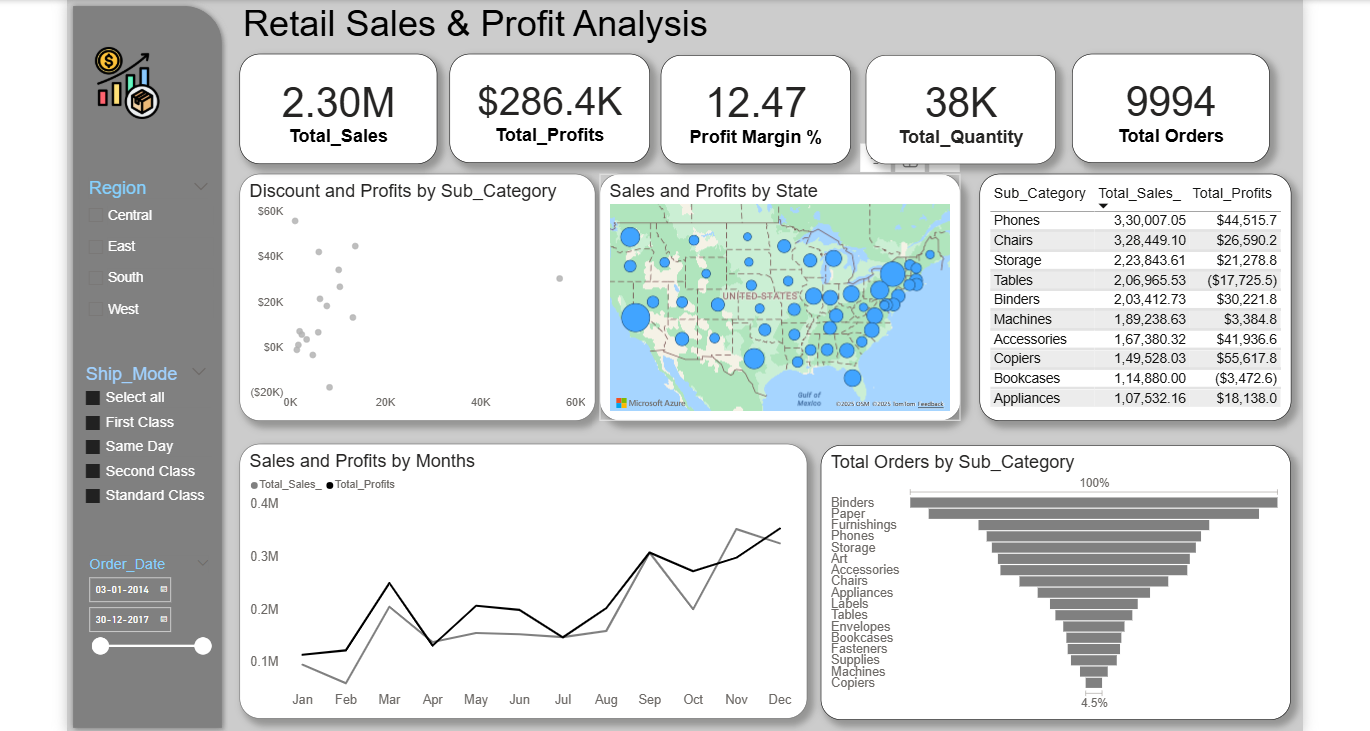

The page's visual inventory and layout, read from the dashboard file:
{"tool":"powerbi","page":{"name":"Page 4","canvas":[1820,1080],"ordinal":0},"visuals":[{"type":"shape","box":[0,0,237,1080.4],"z":0},{"type":"textbox","box":[254,0,762,92],"z":1000},{"type":"scatterChart","title":"Discount and Profits by Sub_Category","fields":{"X":["Sum(retail_sales_and_profit_analysis sales.Discount)"],"Y":["retail_sales_and_profit_analysis sales.Total_Profits"],"Category":["retail_sales_and_profit_analysis sales.Sub_Category"]},"box":[253.8,255.6,524.3,363.9],"z":2000},{"type":"azureMap","title":"Sales and Profits by State","fields":{"Category":["retail_sales_and_profit_analysis sales.State"],"Size":["retail_sales_and_profit_analysis sales.Total_Sales_"]},"box":[783.7,255.6,531.8,363.9],"z":3000},{"type":"tableEx","fields":{"Values":["retail_sales_and_profit_analysis sales.Sub_Category","retail_sales_and_profit_analysis sales.Total_Sales_","retail_sales_and_profit_analysis sales.Total_Profits"]},"box":[1343.5,255.6,459,363.9],"z":4000},{"type":"lineChart","title":"Sales and Profits by Months","fields":{"Y2":["retail_sales_and_profit_analysis sales.Total_Profits"],"Y":["retail_sales_and_profit_analysis sales.Total_Sales_"],"Category":["Jan ,1.Column1"]},"box":[253.8,653.1,835.9,404.9],"z":5000},{"type":"funnel","fields":{"Y":["retail_sales_and_profit_analysis sales.Total Orders"],"Category":["retail_sales_and_profit_analysis sales.Sub_Category"]},"box":[1110.2,654.9,692.3,404.9],"z":6000},{"type":"card","fields":{"Values":["retail_sales_and_profit_analysis sales.Total_Sales_"]},"box":[253.8,78.4,291.1,162.3],"z":7000},{"type":"card","fields":{"Values":["retail_sales_and_profit_analysis sales.Total_Profits"]},"box":[563.5,78.4,294.8,160.5],"z":8000},{"type":"card","fields":{"Values":["retail_sales_and_profit_analysis sales.Profit Margin %"]},"box":[875.1,80.2,279.9,160.5],"z":9000},{"type":"card","fields":{"Values":["retail_sales_and_profit_analysis sales.Total Orders"]},"box":[1479.7,78.4,291.1,160.5],"z":10000},{"type":"card","fields":{"Values":["retail_sales_and_profit_analysis sales.Total_Quantity"]},"box":[1175.5,80.2,279.9,160.5],"z":11000},{"type":"slicer","fields":{"Values":["retail_sales_and_profit_analysis sales.Region"]},"box":[18.4,255.8,202.5,230.1],"z":12000},{"type":"slicer","fields":{"Values":["retail_sales_and_profit_analysis sales.Ship_Mode"]},"box":[14.7,530.1,202.5,233.7],"z":13000},{"type":"slicer","fields":{"Values":["retail_sales_and_profit_analysis sales.Order_Date"]},"box":[20.2,813.5,200.6,165.6],"z":14000},{"type":"image","box":[14.7,62.6,147.2,119.6],"z":15000}]}

Visuals, with their boxes in screenshot pixels (x1, y1, x2, y2):
shape: {"x1": 57, "y1": 0, "x2": 221, "y2": 730}
textbox: {"x1": 233, "y1": 0, "x2": 761, "y2": 53}
"Discount and Profits by Sub_Category" scatterChart: {"x1": 233, "y1": 166, "x2": 596, "y2": 418}
"Sales and Profits by State" azureMap: {"x1": 600, "y1": 166, "x2": 968, "y2": 418}
tableEx - retail_sales_and_profit_analysis sales.Sub_Category x retail_sales_and_profit_analysis sales.Total_Sales_: {"x1": 987, "y1": 166, "x2": 1305, "y2": 418}
"Sales and Profits by Months" lineChart: {"x1": 233, "y1": 441, "x2": 812, "y2": 722}
funnel - retail_sales_and_profit_analysis sales.Total Orders x retail_sales_and_profit_analysis sales.Sub_Category: {"x1": 826, "y1": 443, "x2": 1305, "y2": 723}
card - retail_sales_and_profit_analysis sales.Total_Sales_: {"x1": 233, "y1": 44, "x2": 434, "y2": 156}
card - retail_sales_and_profit_analysis sales.Total_Profits: {"x1": 447, "y1": 44, "x2": 651, "y2": 155}
card - retail_sales_and_profit_analysis sales.Profit Margin %: {"x1": 663, "y1": 45, "x2": 857, "y2": 156}
card - retail_sales_and_profit_analysis sales.Total Orders: {"x1": 1082, "y1": 44, "x2": 1283, "y2": 155}
card - retail_sales_and_profit_analysis sales.Total_Quantity: {"x1": 871, "y1": 45, "x2": 1065, "y2": 156}
slicer - retail_sales_and_profit_analysis sales.Region: {"x1": 70, "y1": 166, "x2": 210, "y2": 326}
slicer - retail_sales_and_profit_analysis sales.Ship_Mode: {"x1": 67, "y1": 356, "x2": 207, "y2": 518}
slicer - retail_sales_and_profit_analysis sales.Order_Date: {"x1": 71, "y1": 553, "x2": 210, "y2": 667}
image: {"x1": 67, "y1": 33, "x2": 169, "y2": 115}
